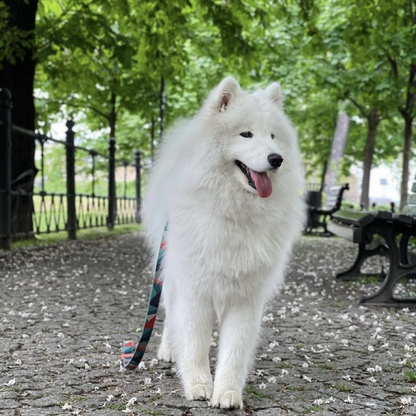samoyed: (136, 70, 312, 411)
